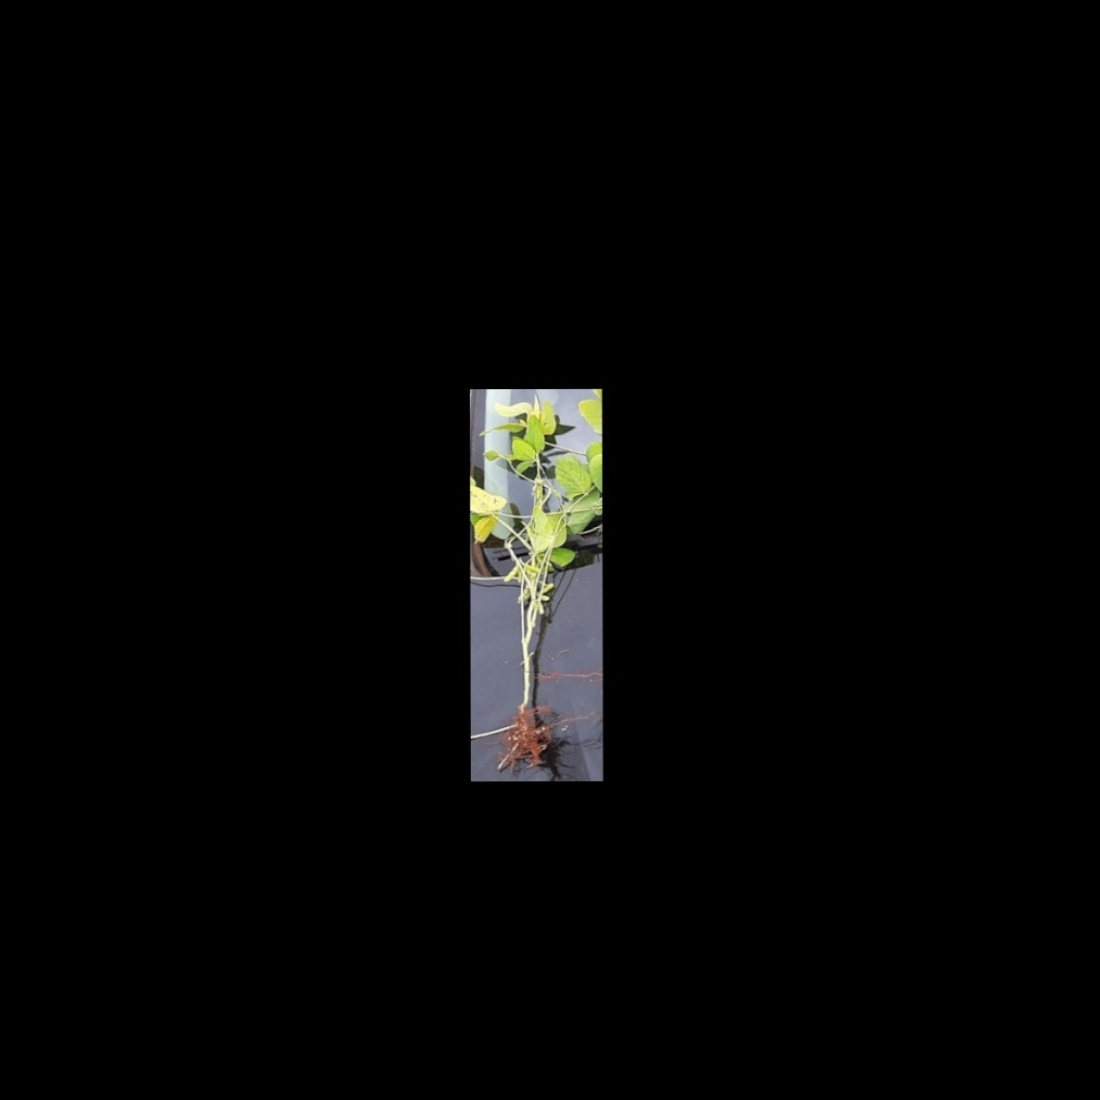pod: (500, 562, 520, 584), (542, 580, 556, 596), (536, 600, 546, 617)
soy: (473, 402, 593, 767)
